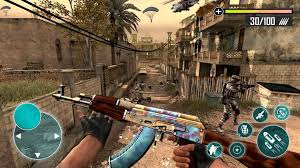gun: (48, 91, 299, 167), (233, 81, 254, 93)
